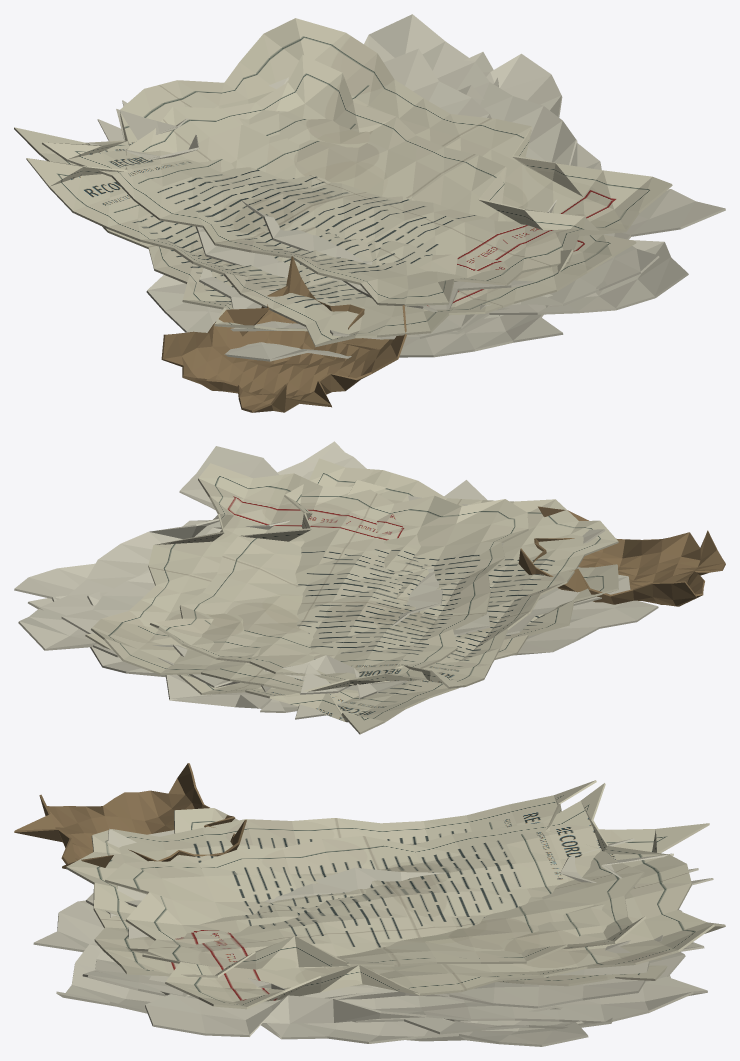
File: DS_Clue_PaperPile_Damaged_V01.fbx
3 views of the same model, one above another, from view 1: azimuth 30°, elevation 25°; view 2: azimuth 150°, elevation 25°; view 3: azimuth 270°, elevation 25° (orthographic). The views are drawn at different scales.
Parts seen in each view (by area): view 1: DS_Clue_PaperPile_Damaged_V01; view 2: DS_Clue_PaperPile_Damaged_V01; view 3: DS_Clue_PaperPile_Damaged_V01.
Boxes of the visible parts, x1,y1,x2,y2 form: DS_Clue_PaperPile_Damaged_V01: (14, 14, 725, 412); DS_Clue_PaperPile_Damaged_V01: (14, 441, 725, 734); DS_Clue_PaperPile_Damaged_V01: (14, 763, 725, 1046).
Size of the model in its own units: 74.81 by 10.8 by 80.02.
Materials: 3 (1 with a texture image).
